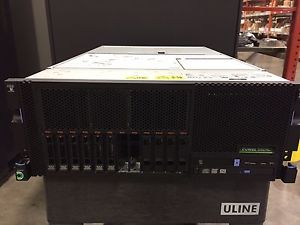ibm-server: (3, 72, 298, 189)
